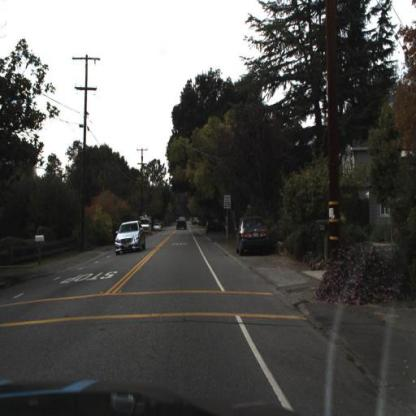car: (232, 214, 272, 256), (112, 217, 147, 256), (203, 214, 219, 236), (139, 216, 153, 236), (138, 217, 154, 233), (173, 213, 187, 231)
